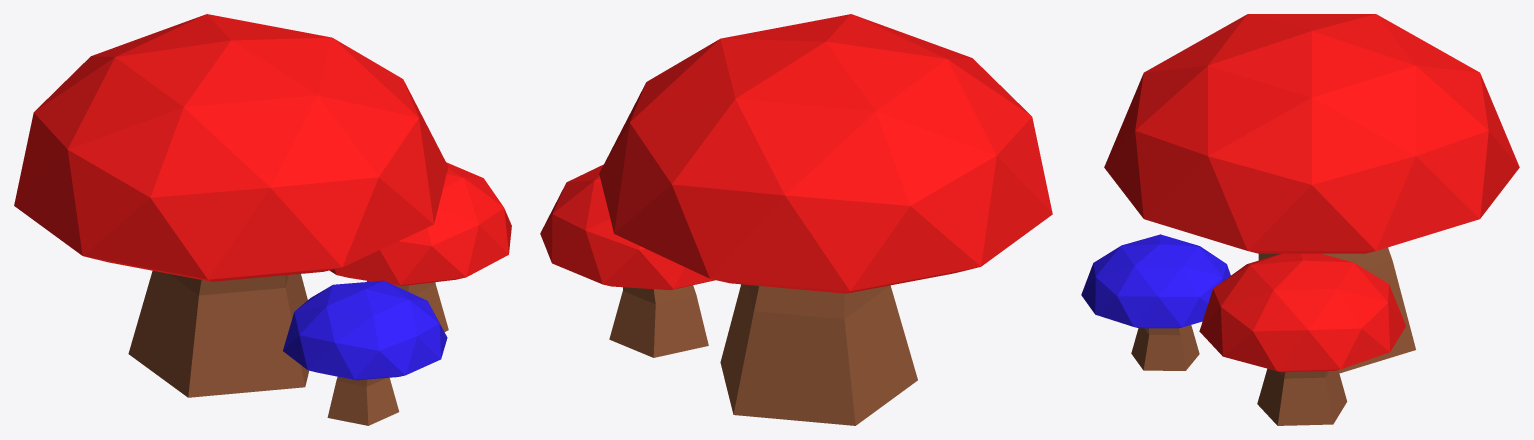
The model's file is plant_4.FBX.
3 renders of one model, left to right at view 1: azimuth 30°, elevation 25°; view 2: azimuth 150°, elevation 25°; view 3: azimuth 270°, elevation 25°, orthographic. The views are drawn at different scales.
Visible parts, largest first — view 1: Cylinder002; view 2: Cylinder002; view 3: Cylinder002.
Boxes of the visible parts, x1,y1,x2,y2 form: Cylinder002: [14, 14, 511, 425]; Cylinder002: [540, 14, 1052, 425]; Cylinder002: [1081, 14, 1519, 425].
Size of the model in its own units: 21.7 by 15.14 by 19.79.
